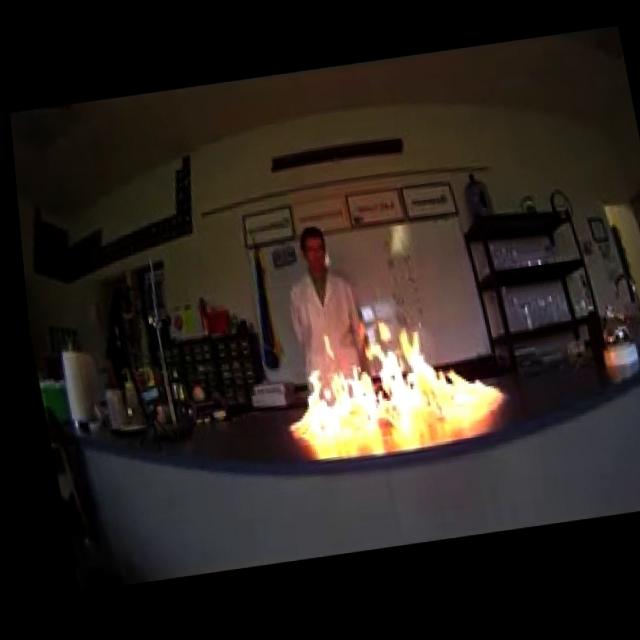Fire: (259, 288, 505, 445)
